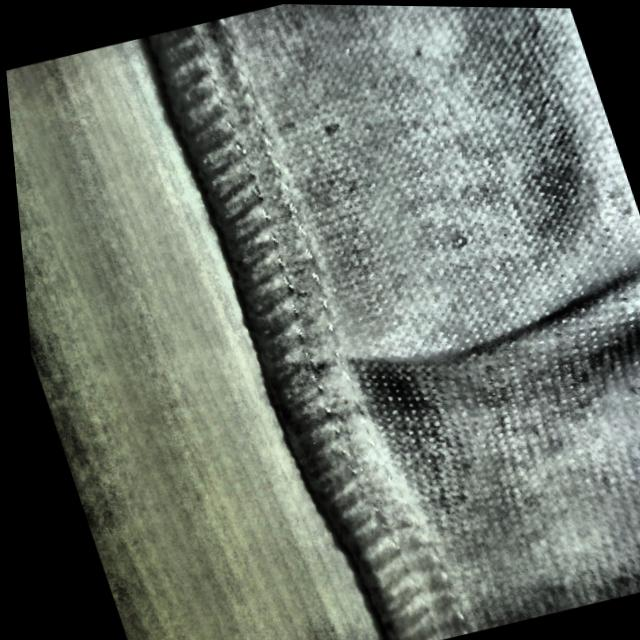seam: (234, 248, 619, 481)
